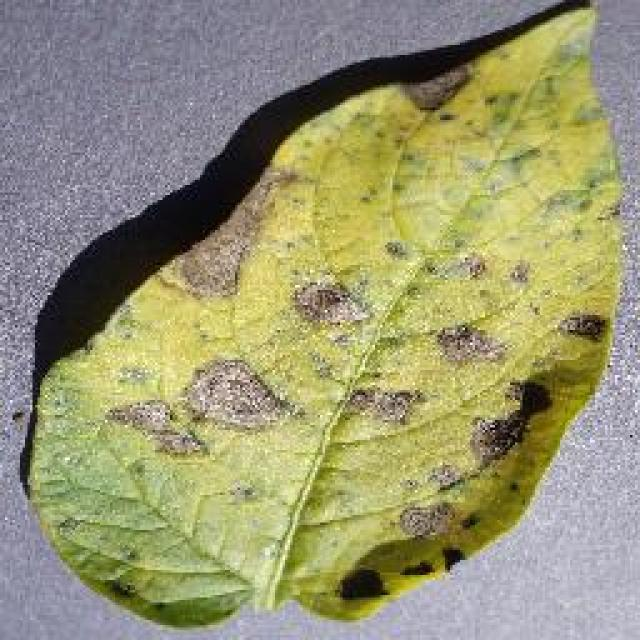early_blight: (20, 0, 627, 632)
